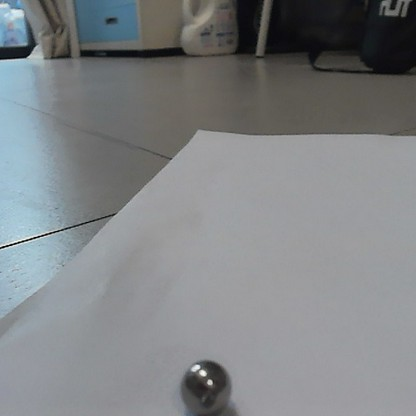ironball: (176, 359, 236, 414)
